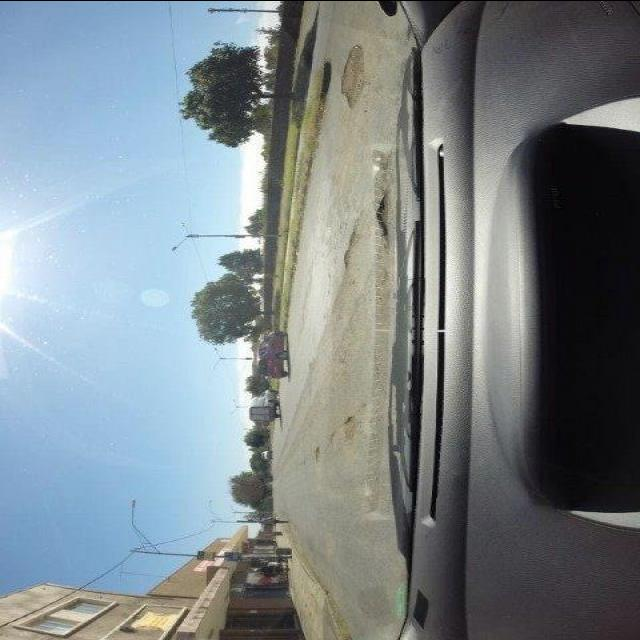lubang: (366, 160, 396, 244), (341, 35, 367, 109), (335, 215, 365, 272), (341, 417, 358, 438), (310, 442, 320, 457)
